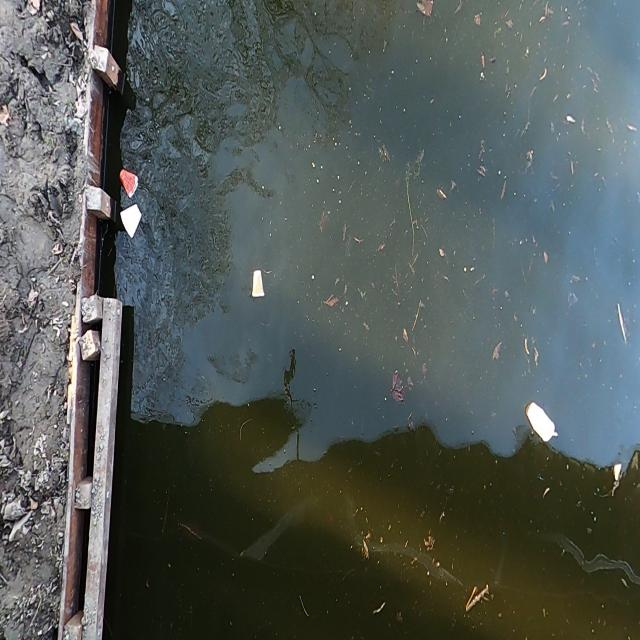Non plastique: (522, 397, 556, 448), (115, 163, 142, 204), (118, 202, 143, 241), (247, 265, 266, 308)
